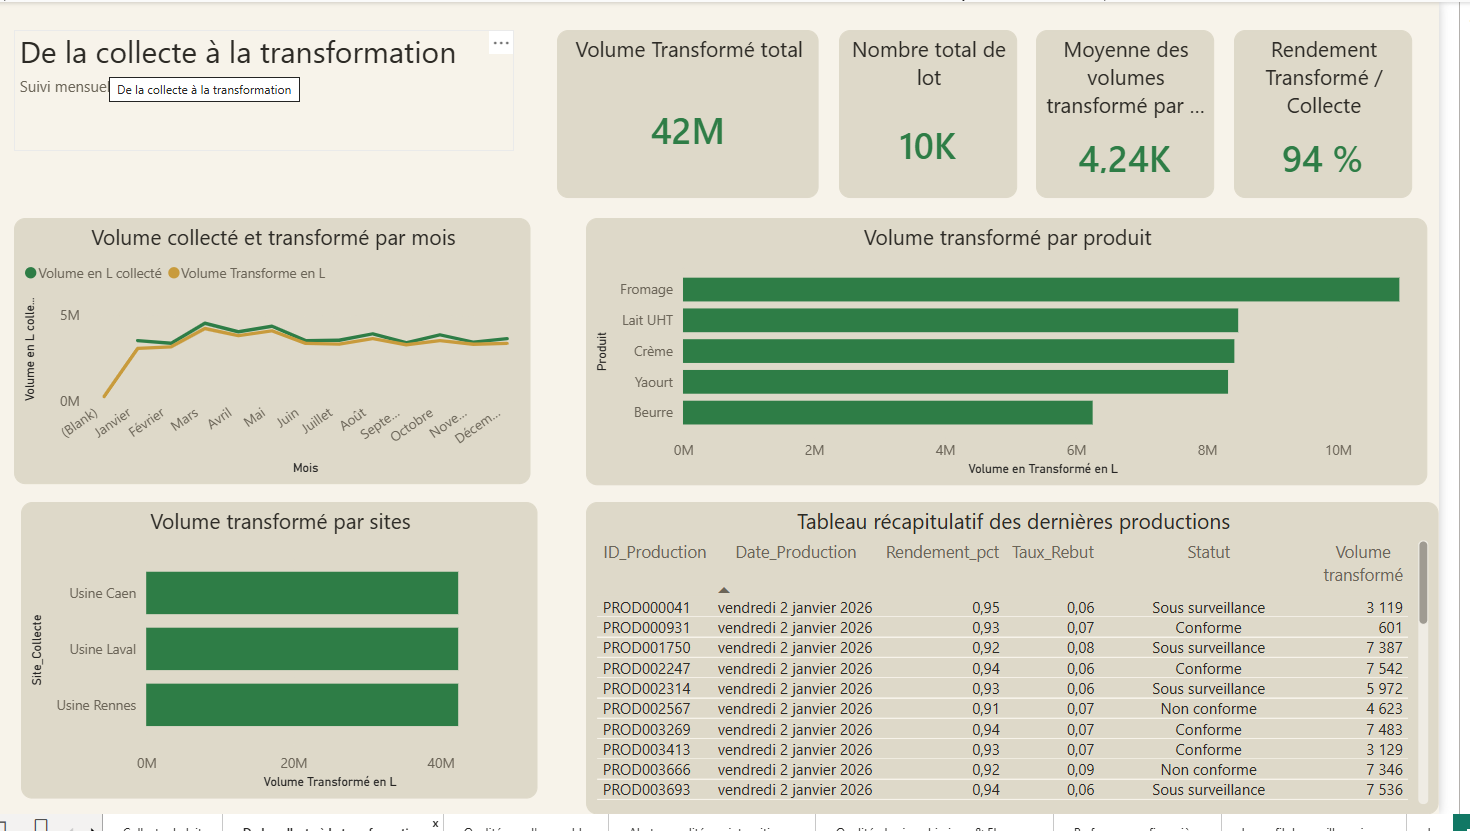

This screenshot's page, from the dashboard's own definition file:
{"tool":"powerbi","page":{"name":"Production","canvas":[1280,720],"ordinal":1},"visuals":[{"type":"shape","box":[9.8,0,1270.2,189.8],"z":0},{"type":"cardVisual","title":"Volume Transformé total","fields":{"Data":["Sum(Production.Volume_Transforme_L)"]},"box":[528.1,4.9,232.5,148.8],"z":1000},{"type":"cardVisual","title":"Nombre total de lot","fields":{"Data":["Dimension_lot.Nombre de Lots"]},"box":[773.3,4.9,157.6,148.8],"z":2000},{"type":"cardVisual","title":"Moyenne des volumes transformé par lots","fields":{"Data":["Avg(Production.Volume_Transforme_L)"]},"box":[944.4,4.9,157.6,148.8],"z":3000},{"type":"cardVisual","title":"Rendement Transformé / Collecte","fields":{"Data":["Collectes.Rendement_Collecte_vs_Production"]},"box":[1111.7,4.9,157.6,148.8],"z":4000},{"type":"lineChart","title":"Volume collecté et transformé par mois","fields":{"Category":["Calendrier.Nom_Mois"],"Y":["Sum(Collectes.Volume_L)","Sum(Production.Volume_Transforme_L)"]},"box":[9.7,207.2,458.1,236.4],"z":5000},{"type":"barChart","title":"Volume transformé par sites","fields":{"Y":["Sum(Production.Volume_Transforme_L)"],"Category":["Collectes.Site_Collecte"]},"box":[9.7,458.1,458.1,262.6],"z":6000},{"type":"barChart","title":"Volume transformé par produit","fields":{"Y":["Sum(Production.Volume_Transforme_L)"],"Category":["Dimension_lot.Produit"]},"box":[510.6,207.2,746,219.8],"z":7000},{"type":"tableEx","title":"Tableau récapitulatif des dernières productions","fields":{"Values":["Production.ID_Production","Production.Date_Production","Production.ID_Lot","Production.Rendement_pct","Production.Taux_Rebut_pct","Dimension_lot.Statut_Lot","Sum(Production.Volume_Transforme_L)"]},"box":[498,443.5,782,276.2],"z":8000},{"type":"textbox","box":[9.7,4.9,443.5,107],"z":9000}]}

Visuals, with their boxes on the page's 1280x720 design canvas (x1, y1, x2, y2). These are canvas units, not pixel positions in the 1470x831 screenshot, which may show the page scaled, cropped or inside an application window:
shape: x1=10 y1=0 x2=1280 y2=190
"Volume Transformé total" cardVisual: x1=528 y1=5 x2=761 y2=154
"Nombre total de lot" cardVisual: x1=773 y1=5 x2=931 y2=154
"Moyenne des volumes transformé par lots" cardVisual: x1=944 y1=5 x2=1102 y2=154
"Rendement Transformé / Collecte" cardVisual: x1=1112 y1=5 x2=1269 y2=154
"Volume collecté et transformé par mois" lineChart: x1=10 y1=207 x2=468 y2=444
"Volume transformé par sites" barChart: x1=10 y1=458 x2=468 y2=721
"Volume transformé par produit" barChart: x1=511 y1=207 x2=1257 y2=427
"Tableau récapitulatif des dernières productions" tableEx: x1=498 y1=444 x2=1280 y2=720
textbox: x1=10 y1=5 x2=453 y2=112
